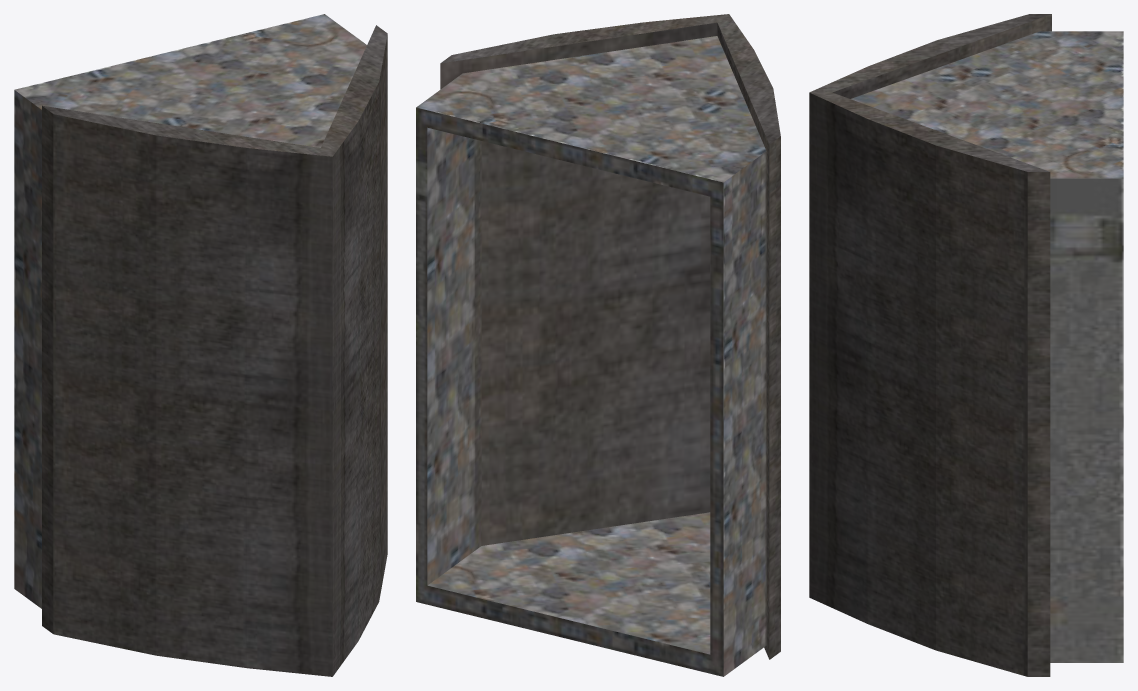
File: cottage.obj
3 renders of one model, left to right at view 1: azimuth 30°, elevation 25°; view 2: azimuth 150°, elevation 25°; view 3: azimuth 270°, elevation 25°, orthographic. The views are drawn at different scales.
Parts seen in each view (by area): view 1: Ceiling_Cube.002, Walls_Cube.001; view 2: Walls_Cube.001, Ceiling_Cube.002; view 3: Ceiling_Cube.002, Walls_Cube.001.
Part boxes in pixels (x1,y1,x2,y2): Ceiling_Cube.002: [42, 25, 387, 676]; Walls_Cube.001: [14, 14, 366, 608]; Walls_Cube.001: [416, 36, 766, 676]; Ceiling_Cube.002: [440, 14, 780, 659]; Ceiling_Cube.002: [809, 14, 1051, 676]; Walls_Cube.001: [851, 31, 1123, 662].
Size of the model in its own units: 6.44 by 9.61 by 5.42.
Materials: 2 (2 with a texture image).
